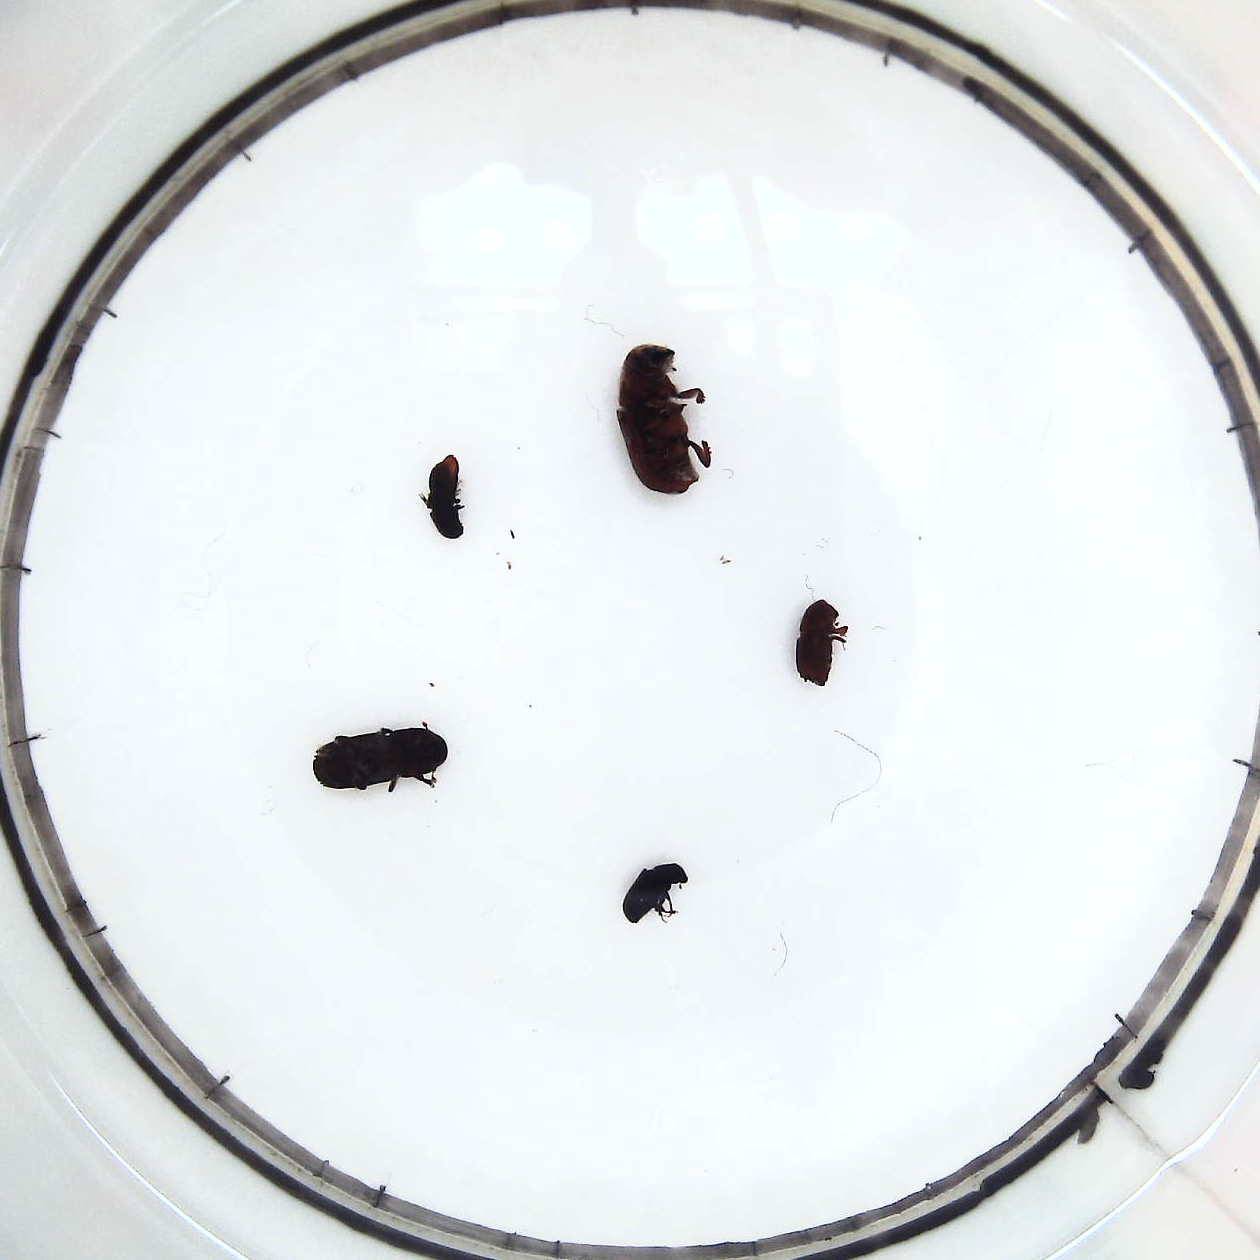Boerner: (312, 723, 453, 794)
Leconte: (612, 338, 714, 496)
armandi: (419, 455, 466, 545)
coleoptera: (614, 860, 695, 931)
linnaeus: (792, 594, 849, 693)
